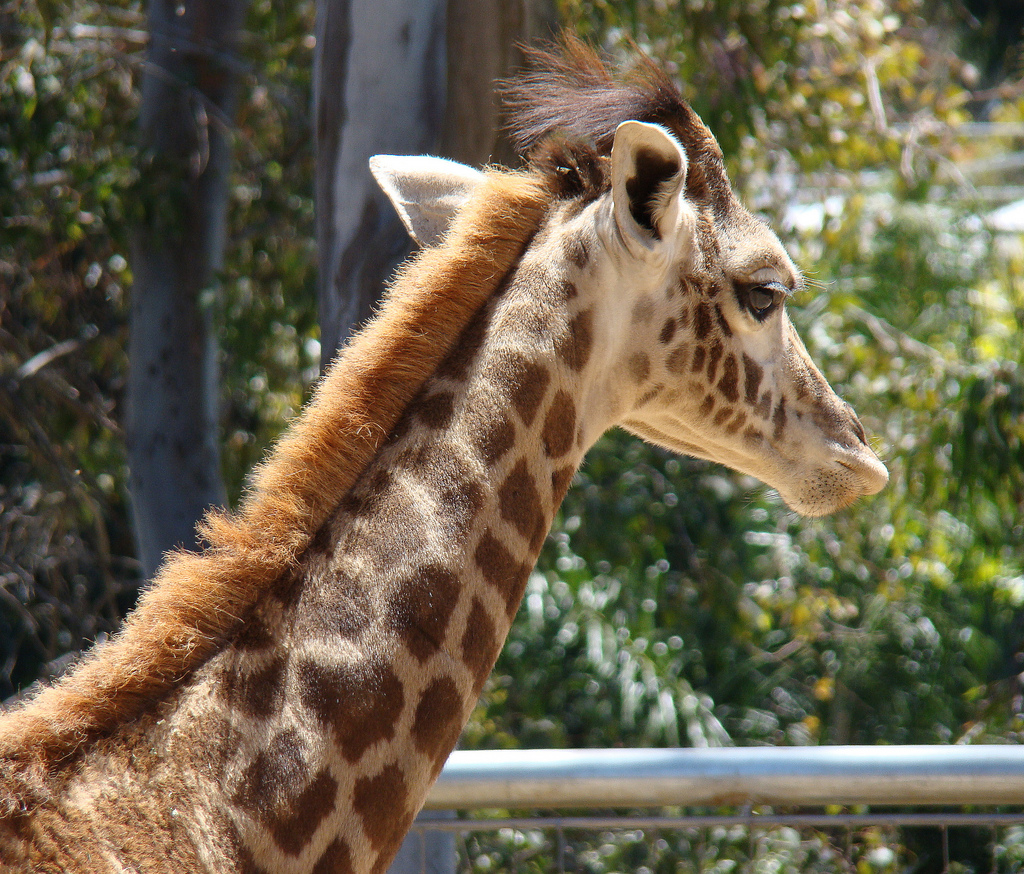giraffe: (81, 66, 934, 825)
